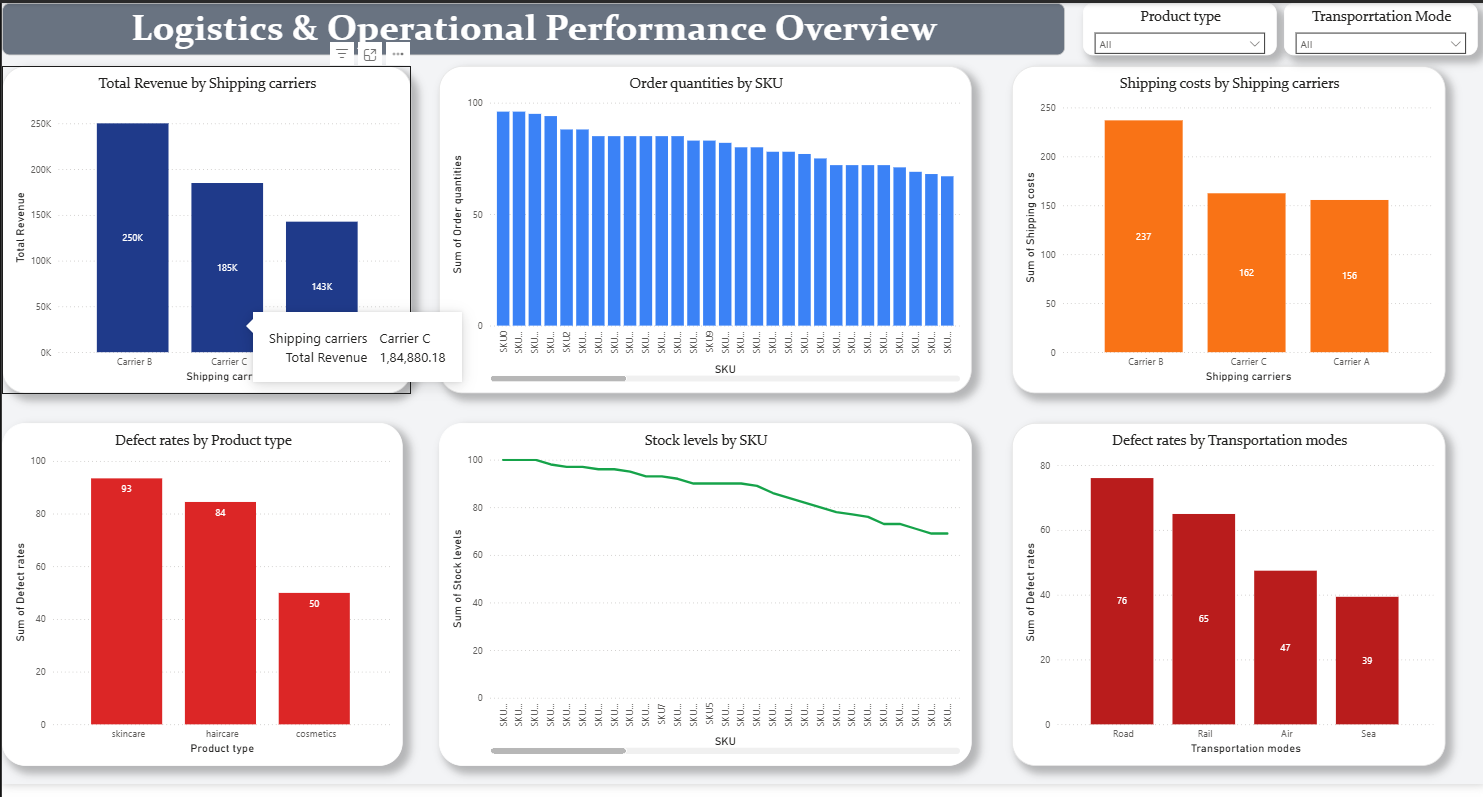

The page's visual inventory and layout, read from the dashboard file:
{"tool":"powerbi","page":{"name":"Logistics & Operational Performance Overview","canvas":[1900,1000],"ordinal":1},"visuals":[{"type":"textbox","title":"Logistics & Operational Performance Overview","box":[0,0,1361.2,67.2],"z":0},{"type":"clusteredColumnChart","fields":{"Y":["supply_chain_data.Total Revenue"],"Category":["supply_chain_data.Shipping carriers"]},"box":[0,80.6,523.9,419.4],"z":1000},{"type":"lineChart","title":"Stock levels by SKU","fields":{"Category":["supply_chain_data.SKU"],"Y":["Sum(supply_chain_data.Stock levels)"]},"box":[559.7,537.3,682.1,438.8],"z":2000},{"type":"clusteredColumnChart","title":"Order quantities by SKU","fields":{"Category":["supply_chain_data.SKU"],"Y":["Sum(supply_chain_data.Order quantities)"]},"box":[559.7,80.6,682.1,419.4],"z":3000},{"type":"clusteredColumnChart","title":"Shipping costs by Shipping carriers","fields":{"Category":["supply_chain_data.Shipping carriers"],"Y":["Sum(supply_chain_data.Shipping costs)"]},"box":[1292.5,80.6,555.2,419.4],"z":4000},{"type":"clusteredColumnChart","title":"Defect rates by Product type","fields":{"Category":["supply_chain_data.Product type"],"Y":["Sum(supply_chain_data.Defect rates)"]},"box":[0,537.3,513.4,438.8],"z":5000},{"type":"clusteredColumnChart","title":"Defect rates by Transportation modes","fields":{"Category":["supply_chain_data.Transportation modes"],"Y":["Sum(supply_chain_data.Defect rates)"]},"box":[1292.5,537.3,555.2,438.8],"z":6000},{"type":"slicer","title":"Product type","fields":{"Values":["supply_chain_data.Product type"]},"box":[1383.6,0,247.8,67.2],"z":7000},{"type":"slicer","title":"Transporrtation Mode","fields":{"Values":["supply_chain_data.Transportation modes"]},"box":[1641.8,0,247.8,67.2],"z":8000}]}

Visuals, with their boxes in screenshot pixels (x1, y1, x2, y2), scaled from the page's 1900x1000 canvas onto the 1483x797 screenshot:
"Logistics & Operational Performance Overview" textbox: x1=0, y1=0, x2=1062, y2=54
clusteredColumnChart - supply_chain_data.Total Revenue x supply_chain_data.Shipping carriers: x1=0, y1=64, x2=409, y2=398
"Stock levels by SKU" lineChart: x1=437, y1=428, x2=969, y2=778
"Order quantities by SKU" clusteredColumnChart: x1=437, y1=64, x2=969, y2=398
"Shipping costs by Shipping carriers" clusteredColumnChart: x1=1009, y1=64, x2=1442, y2=398
"Defect rates by Product type" clusteredColumnChart: x1=0, y1=428, x2=401, y2=778
"Defect rates by Transportation modes" clusteredColumnChart: x1=1009, y1=428, x2=1442, y2=778
"Product type" slicer: x1=1080, y1=0, x2=1273, y2=54
"Transporrtation Mode" slicer: x1=1281, y1=0, x2=1475, y2=54
